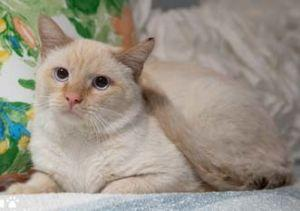siamese: (29, 8, 160, 140)
